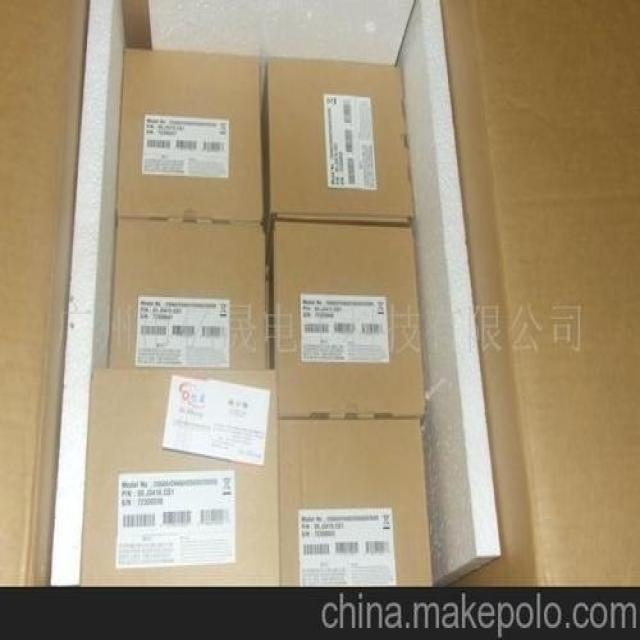box: (79, 369, 280, 587), (269, 213, 425, 427), (261, 58, 415, 247), (279, 418, 434, 587), (115, 48, 264, 222), (108, 218, 270, 369)
